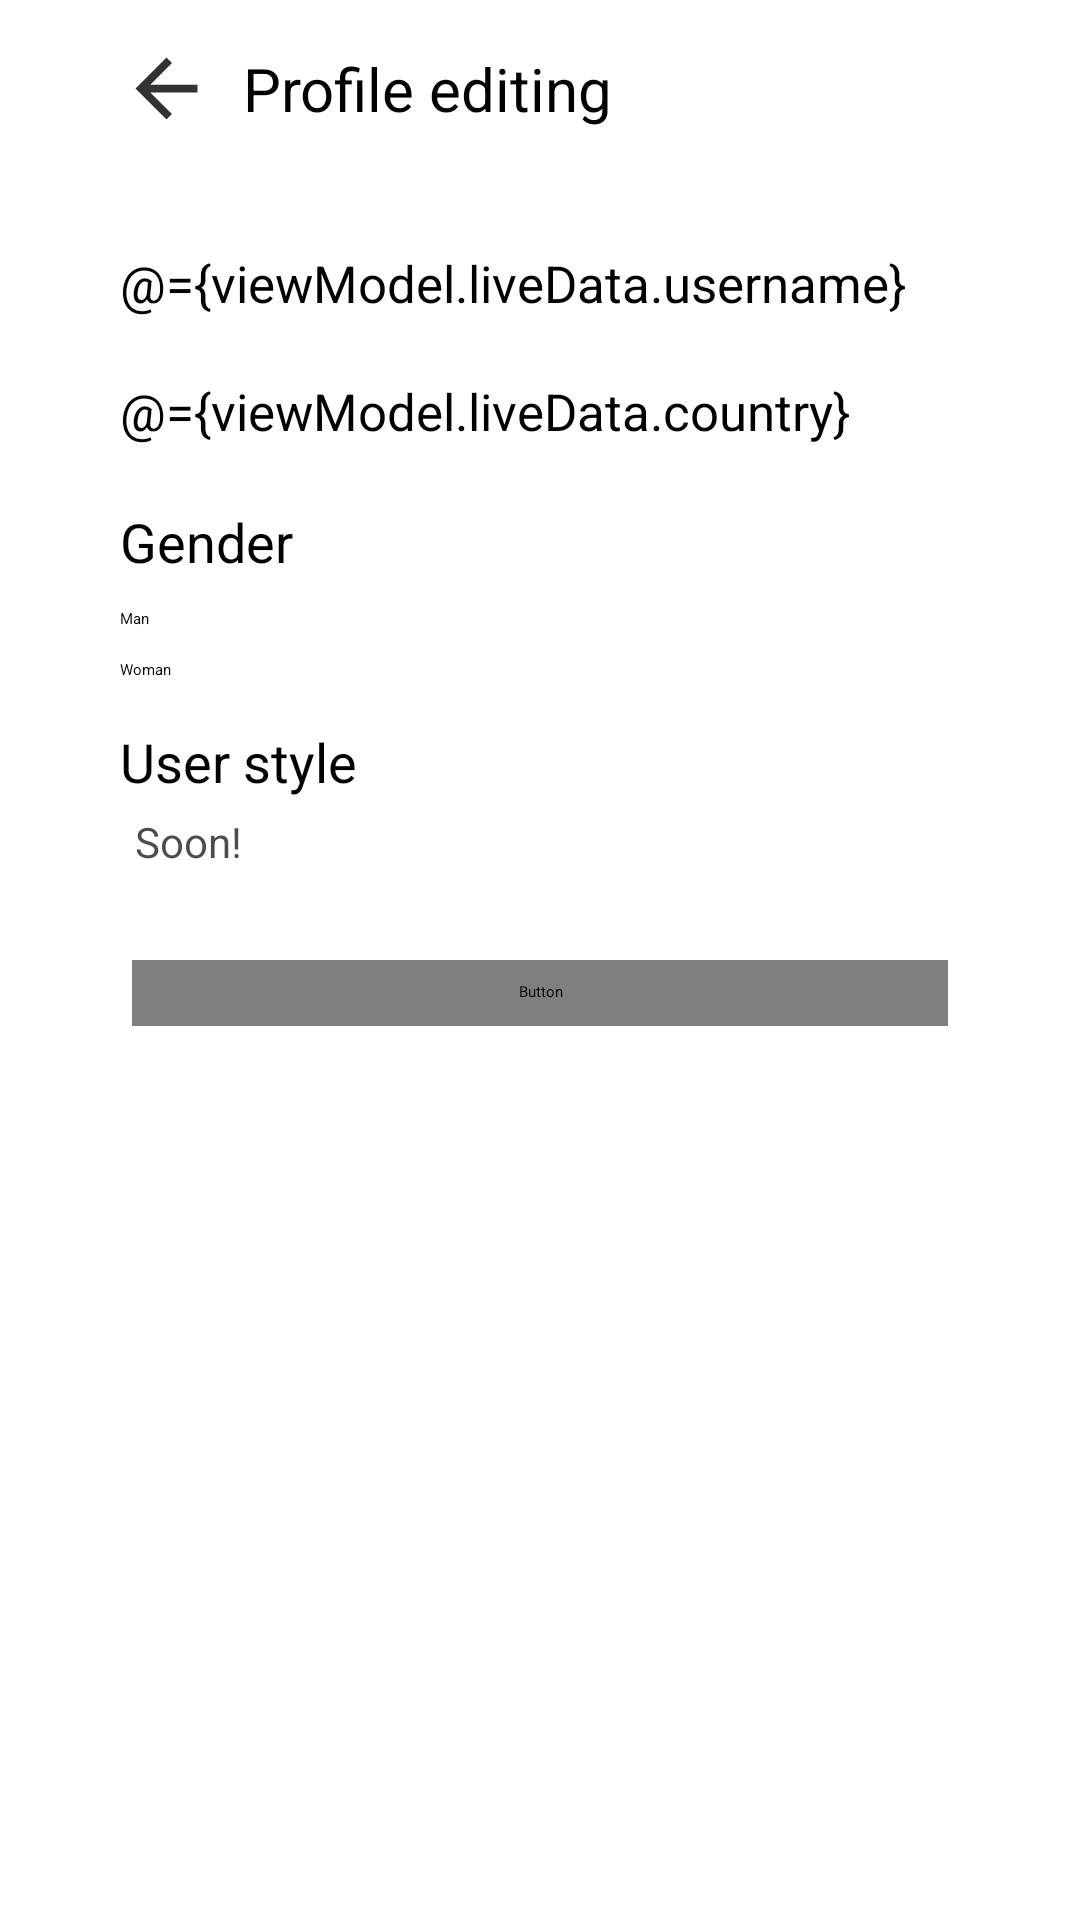

Where to tap for icons on this 1080*1920 app screen, as [x,y]:
Back: [166,88]
